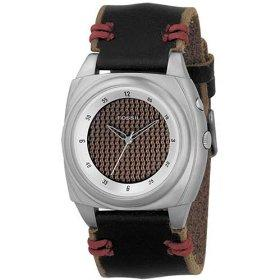watch: (65, 67, 196, 213)
